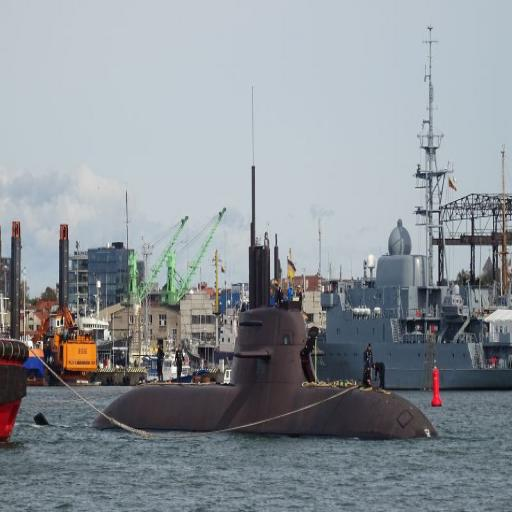submarine: (93, 77, 449, 432)
